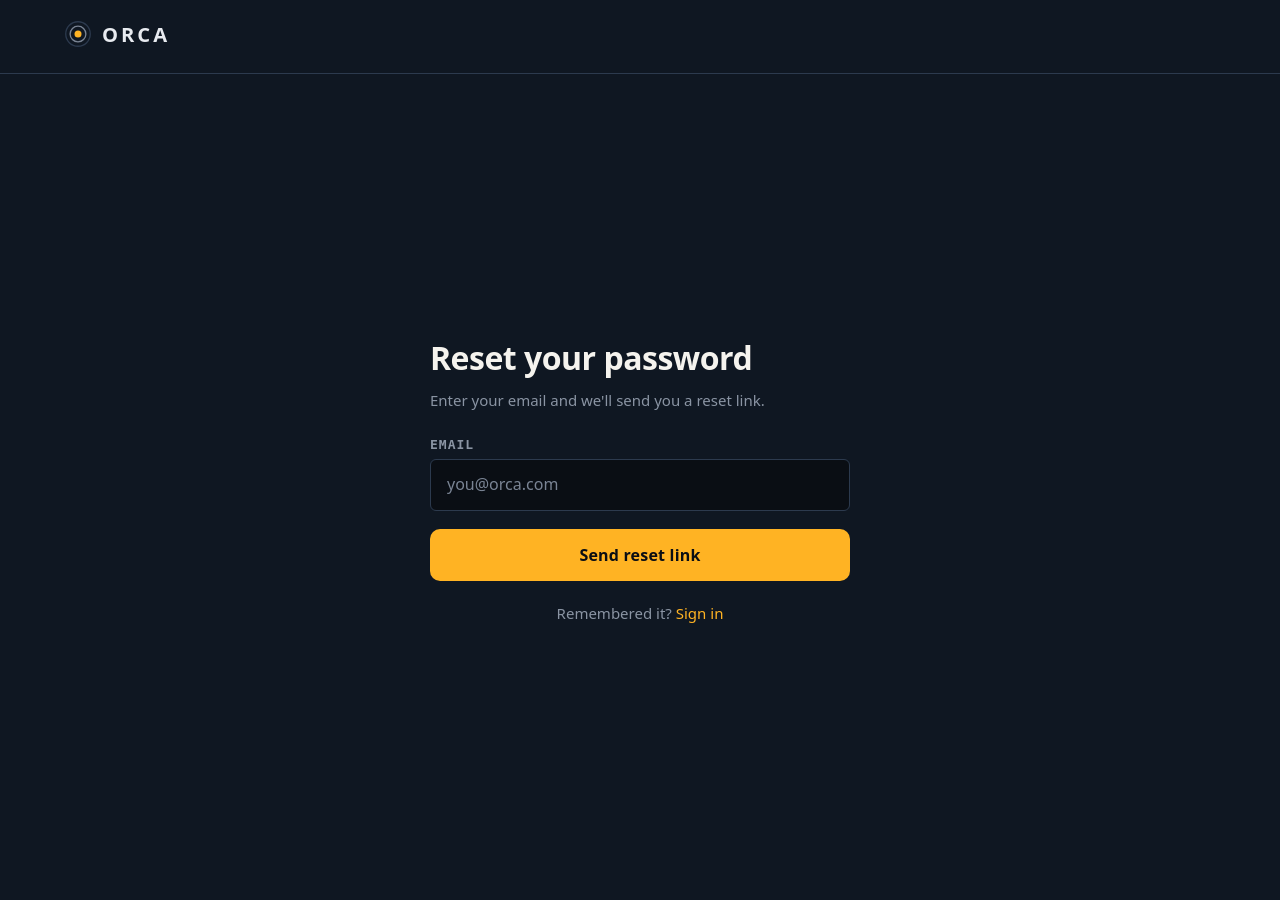
ForgotPassword page › shows a generic confirmation after submitting (anti-enumeration)
The image size is (1280, 900).
In the field labelled "Email": (640, 485) 430,459 -> 850,511, type "john@orca.com"
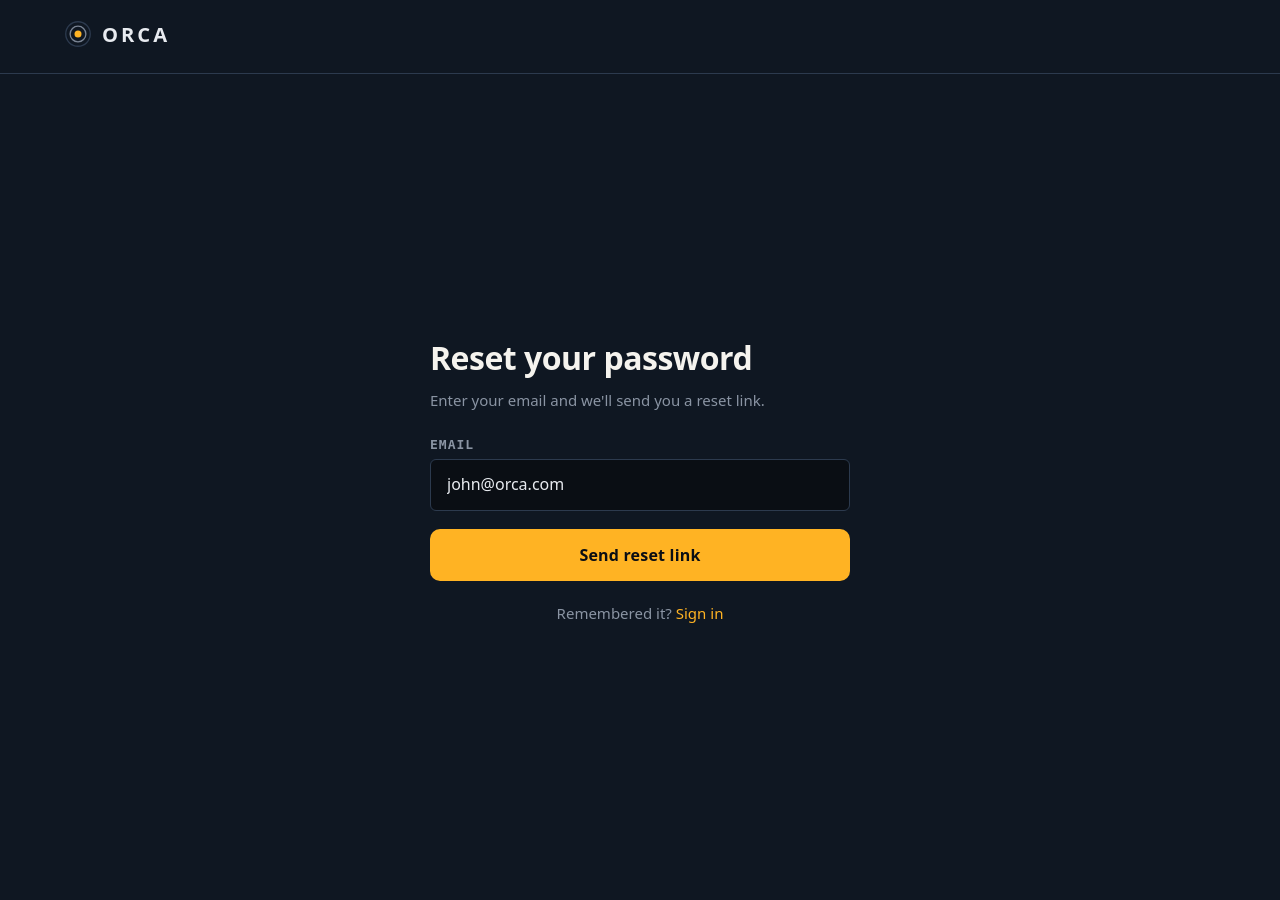
Click the button "Send reset link": (640, 555) 430,529 -> 850,581
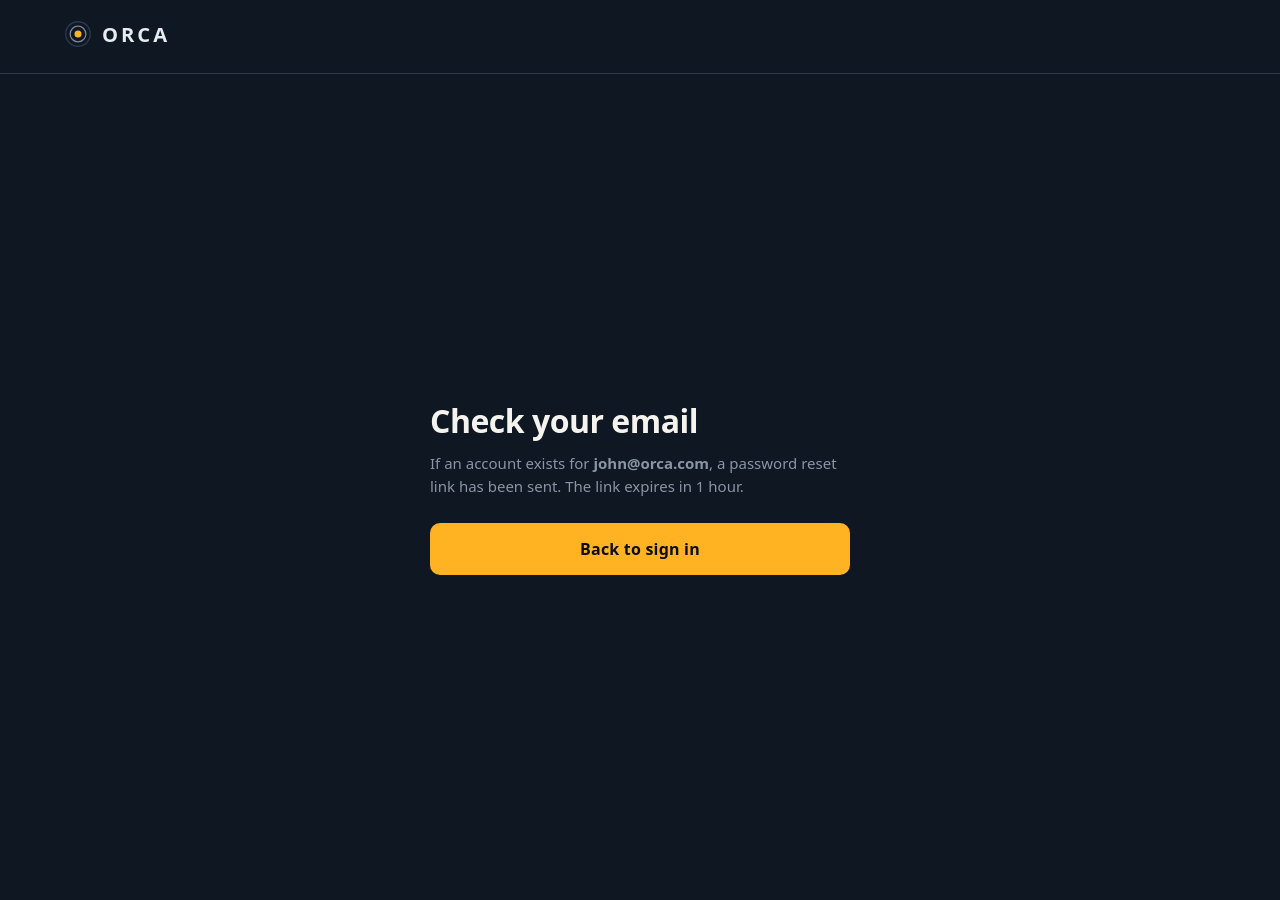
Expected: the heading "Check your email" is shown, 430,399 -> 698,442
